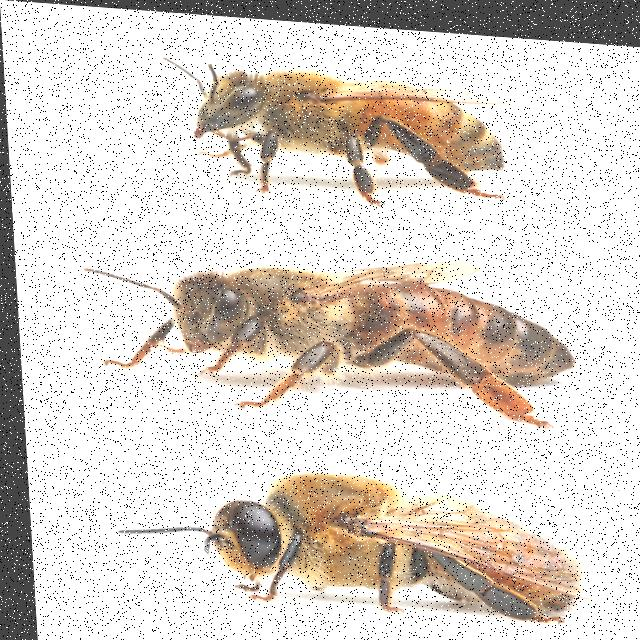Apis-mellifera-scutellata: (91, 441, 637, 628), (69, 236, 603, 427), (145, 36, 544, 215)
